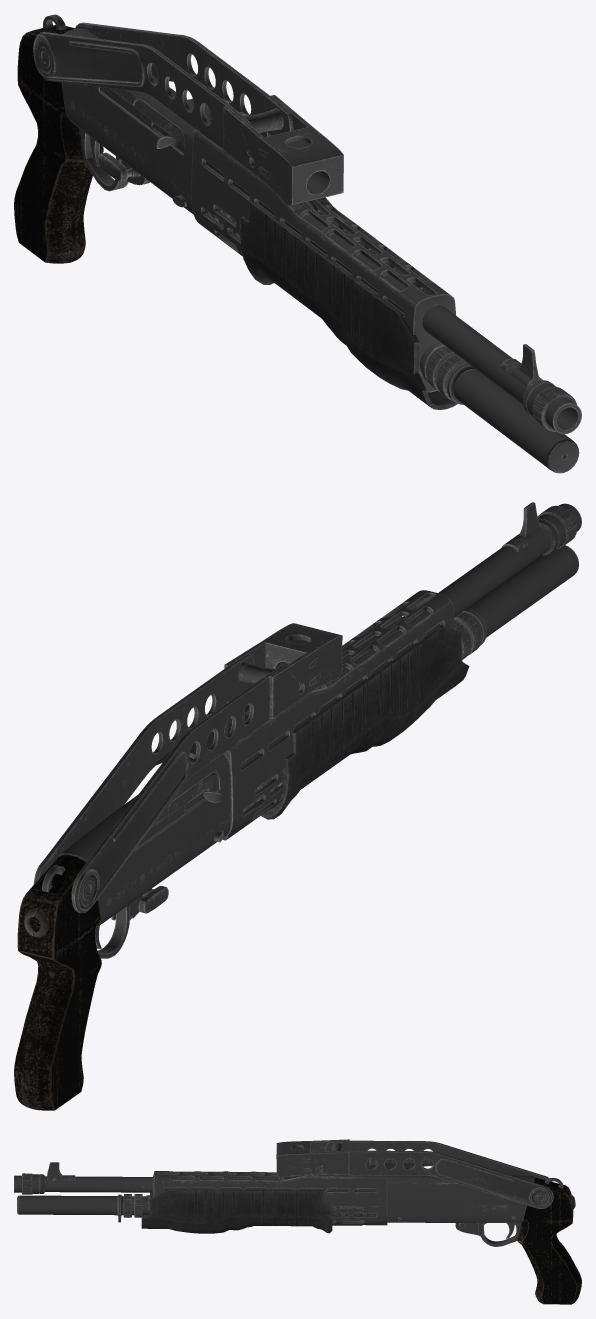
File: spas12.obj
The picture shows the model from 3 angles, top to bottom: view 1: azimuth 30°, elevation 25°; view 2: azimuth 150°, elevation 25°; view 3: azimuth 270°, elevation 25°; orthographic projection. The views are drawn at different scales.
Visible parts, largest first — view 1: frame, stock, ejector, heat_keeper, bolt, saftey_low; view 2: frame, stock, ejector, heat_keeper, bolt; view 3: frame, stock, ejector, heat_keeper.
Part boxes in pixels (<box>): frame: <box>14,14,581,473</box>; stock: <box>33,22,343,205</box>; ejector: <box>240,201,457,409</box>; heat_keeper: <box>191,112,455,392</box>; bolt: <box>99,87,184,154</box>; saftey_low: <box>98,152,140,181</box>; frame: <box>14,502,581,1110</box>; stock: <box>33,623,342,913</box>; ejector: <box>261,617,469,819</box>; heat_keeper: <box>222,590,454,840</box>; bolt: <box>135,774,222,849</box>; frame: <box>14,1162,581,1304</box>; stock: <box>276,1139,553,1208</box>; ejector: <box>141,1189,332,1233</box>; heat_keeper: <box>152,1167,387,1225</box>.
Size of the model in its own units: 3.37 by 15.77 by 53.17.
